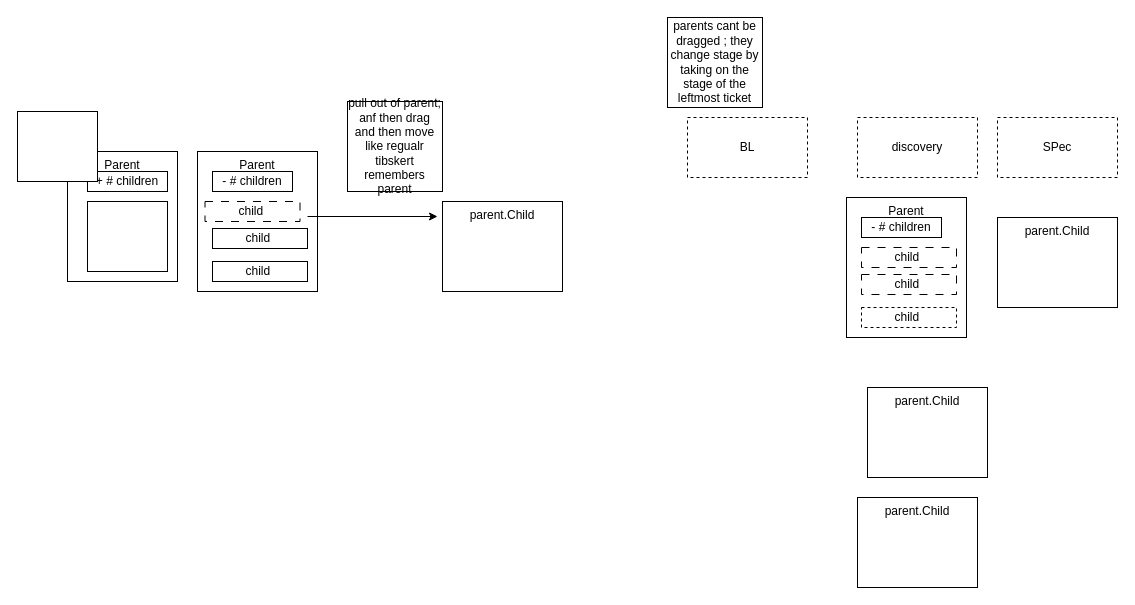
The diagram is 1135 pixels wide and 605 high, and some of its shapes have lost their labels. Each missing label, with the centre of its shape:
"add and remove a child" goes at pixel 57 146.
"edit text in markdown file" goes at pixel 127 236.
